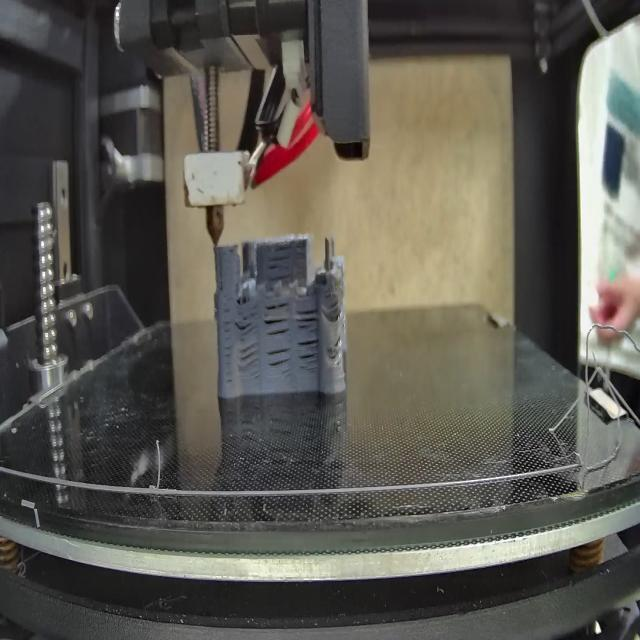cracks: (265, 242, 294, 282), (264, 302, 292, 340), (266, 343, 291, 382), (222, 314, 234, 385), (297, 337, 319, 372), (235, 306, 259, 338), (237, 342, 260, 374), (294, 304, 318, 332), (328, 294, 342, 324), (216, 276, 227, 296), (333, 332, 344, 352)
